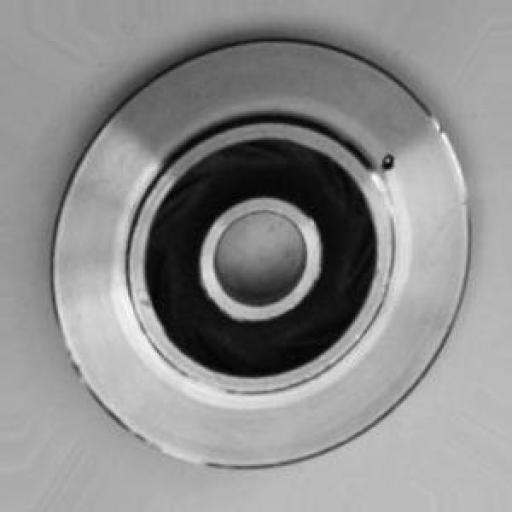defect: (367, 133, 413, 191)
